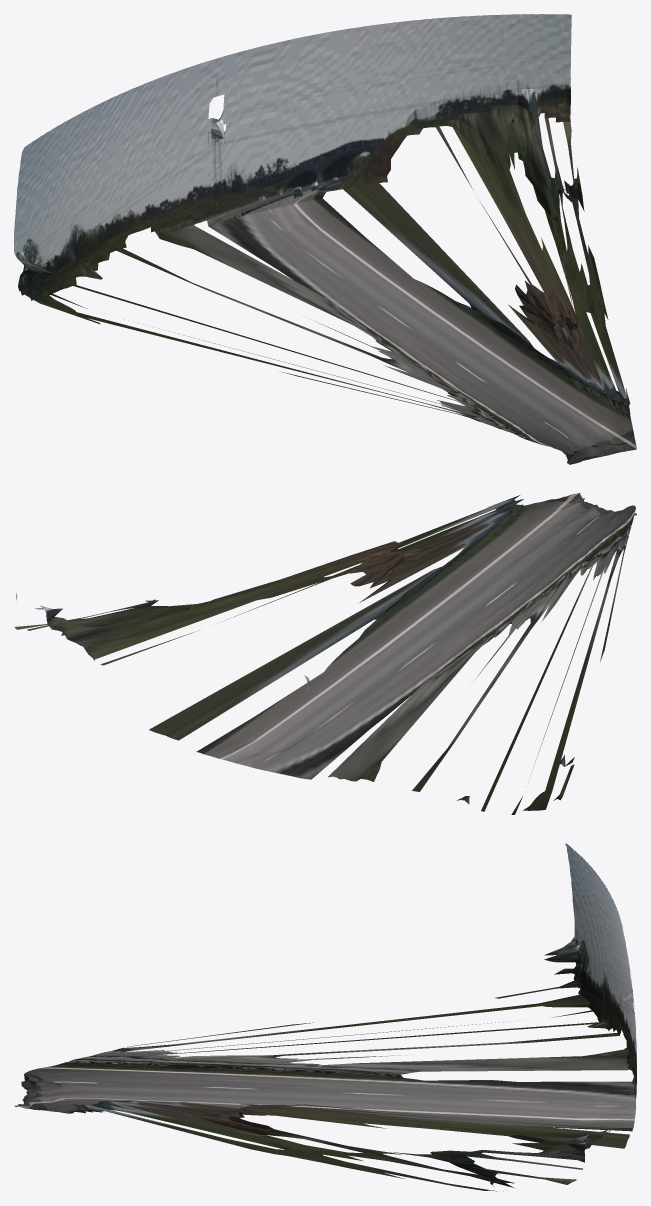
3 renders of one model, top to bottom at view 1: azimuth 30°, elevation 25°; view 2: azimuth 150°, elevation 25°; view 3: azimuth 270°, elevation 25°, orthographic. The views are drawn at different scales.
Parts seen in each view (by area): view 1: defaultobject; view 2: defaultobject; view 3: defaultobject.
Boxes of the visible parts, x1=… form: defaultobject: x1=14, y1=14, x2=636, y2=464; defaultobject: x1=15, y1=493, x2=636, y2=814; defaultobject: x1=14, y1=843, x2=636, y2=1191.
Bounding box in the file's own units: 41.09 × 12.73 × 44.86.
1 material, 1 textured.
